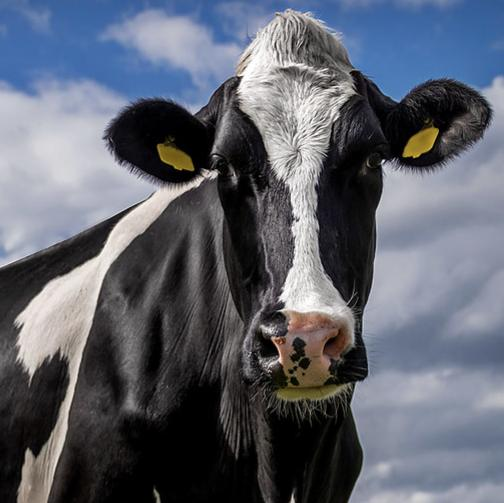cow: (0, 20, 493, 503)
